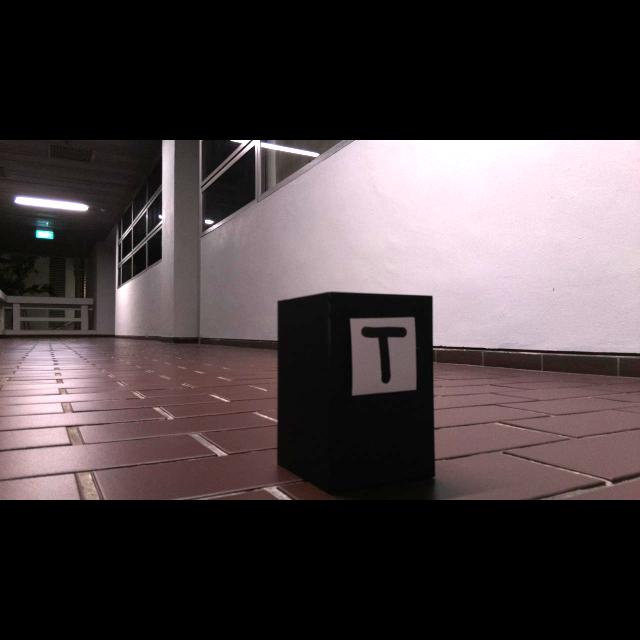T: (361, 327, 407, 383)
